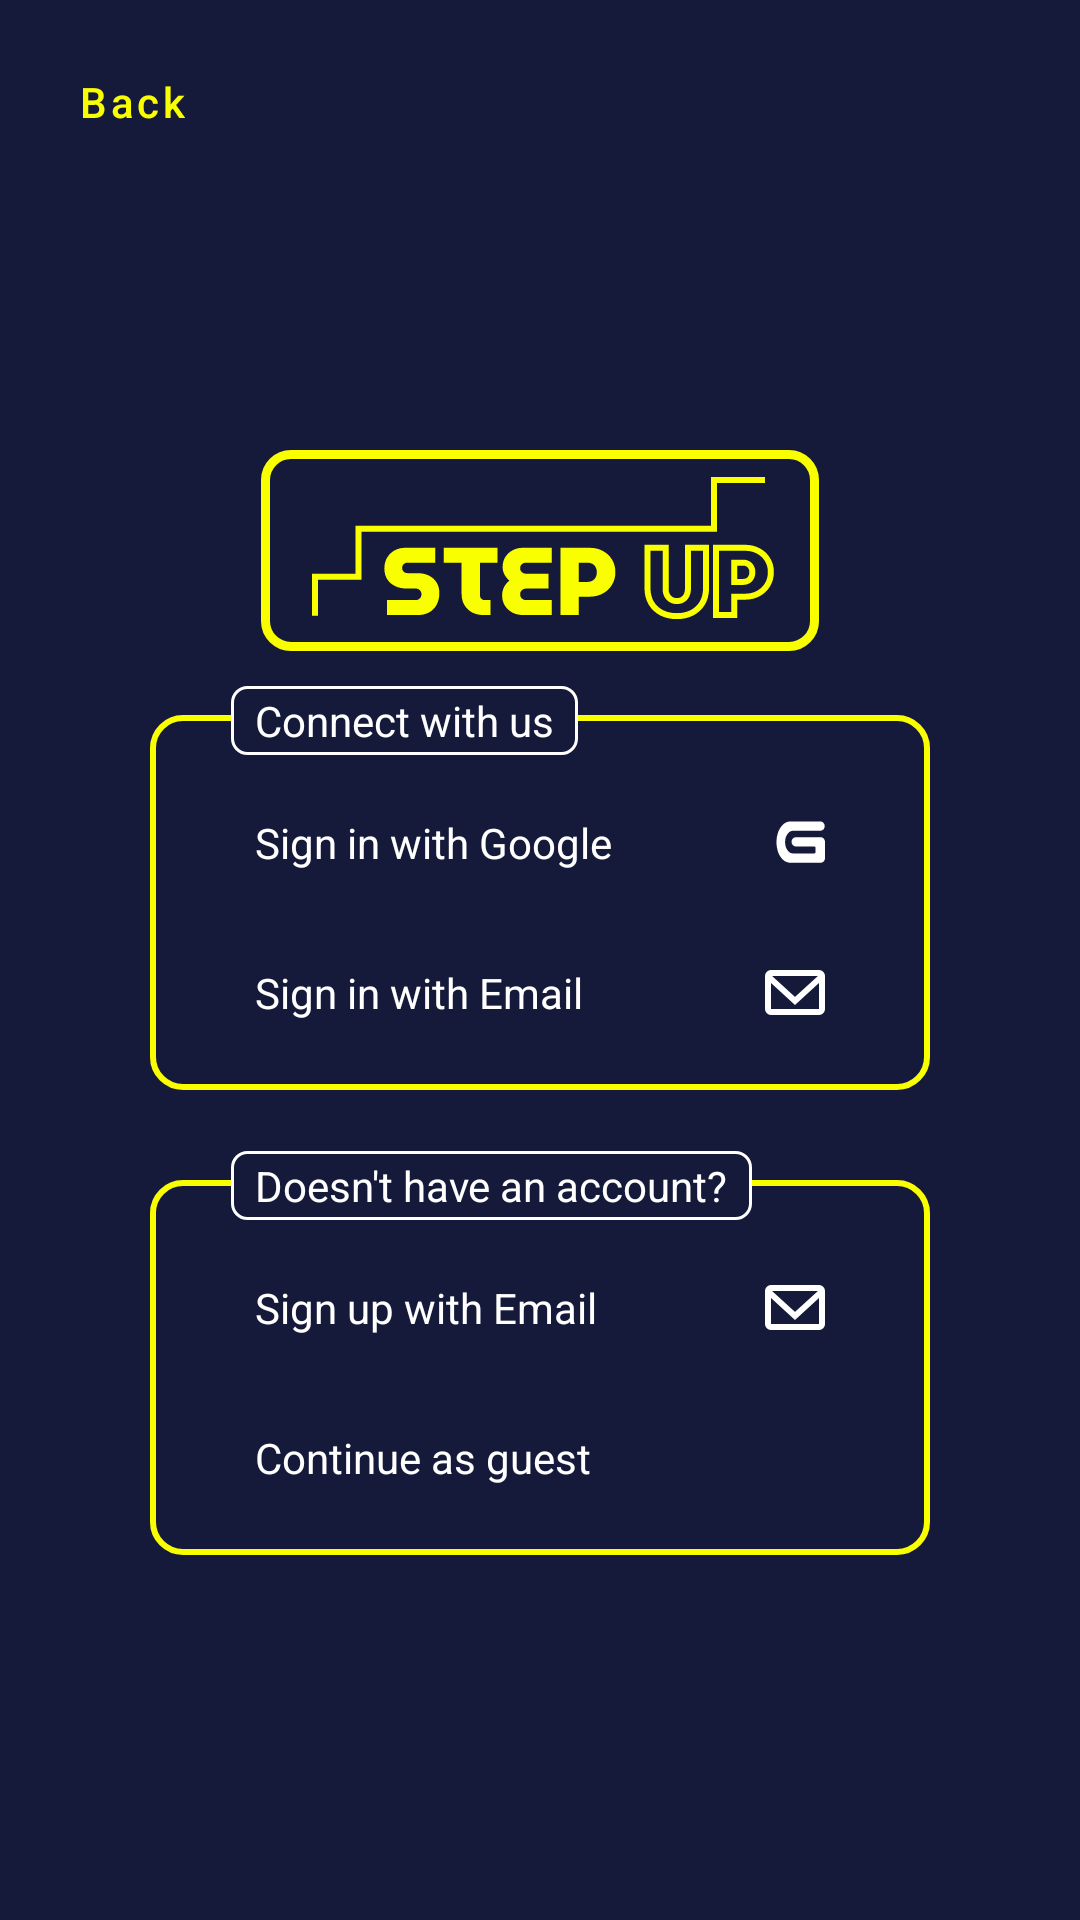

Icons on this 1080 × 1920 Android screen, each with its box as (x1, y1, x2, y2):
email: (765, 970, 825, 1015), (765, 1285, 825, 1330)
